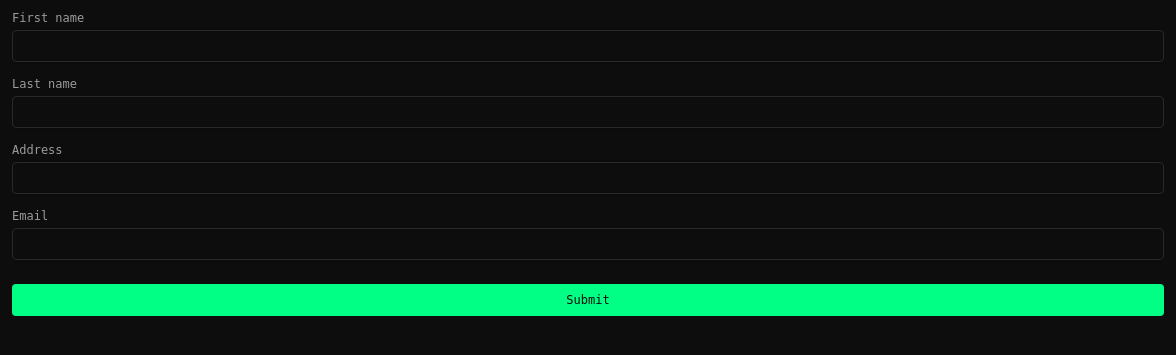
Test: RegistrationForm › RegistrationForm - submit with invalid email - shows email error
Type "Jane" into the field labelled "First name" at (588, 46), box [12,30,1164,62]
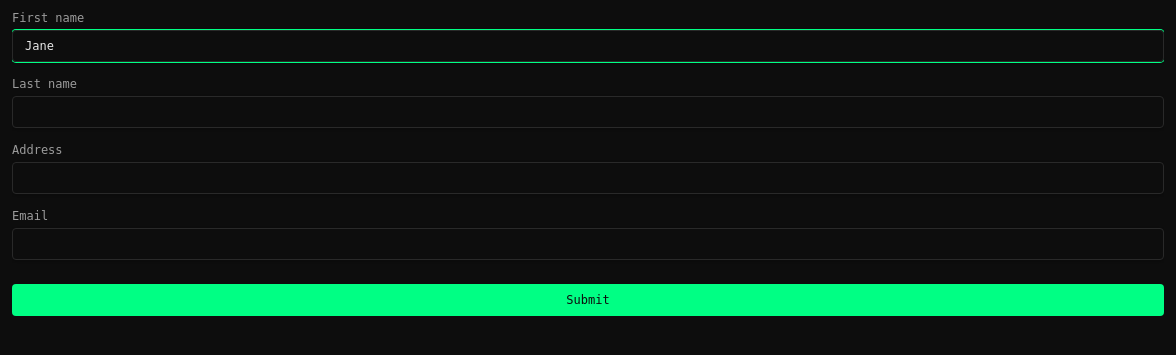
Type "Doe" into the field labelled "Last name" at (588, 112), box [12,96,1164,128]
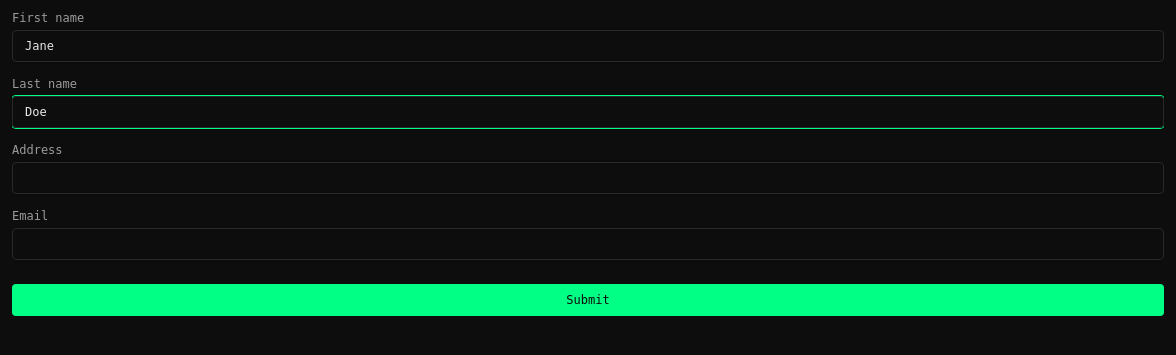
Type "123 Main St" into the field labelled "Address" at (588, 178), box [12,162,1164,194]
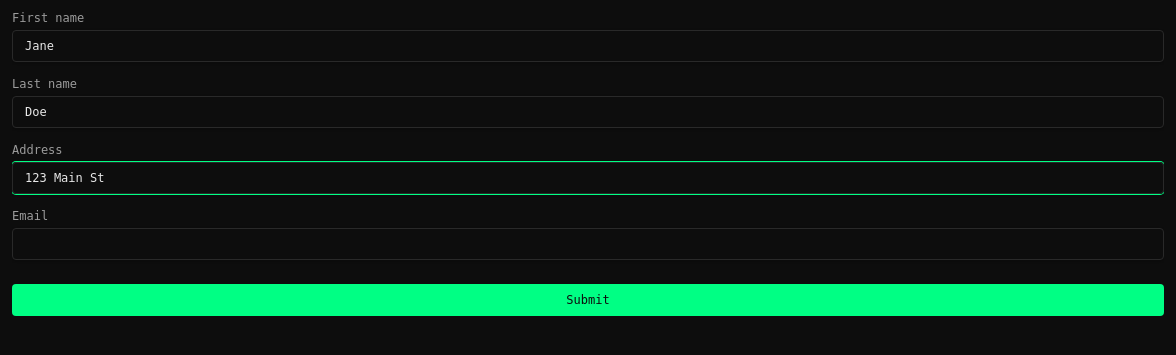
Type "not-an-email" into the field labelled "Email" at (588, 244), box [12,228,1164,260]
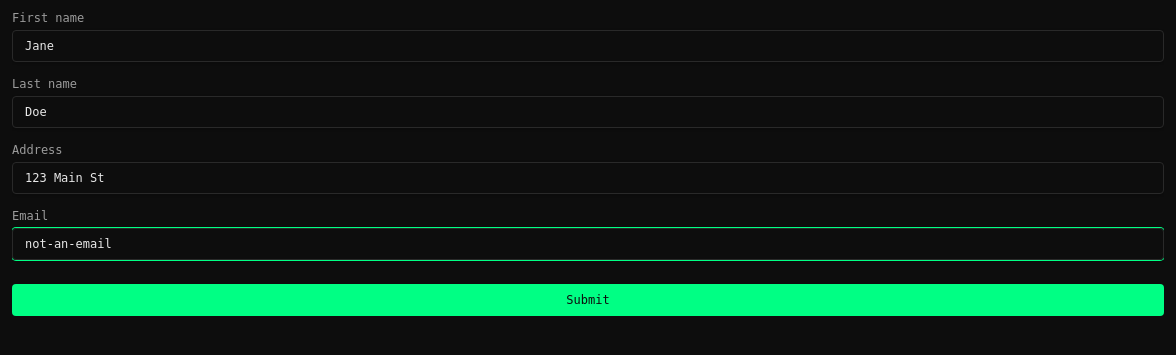
Click the button "Submit" at (588, 300), box [12,284,1164,316]
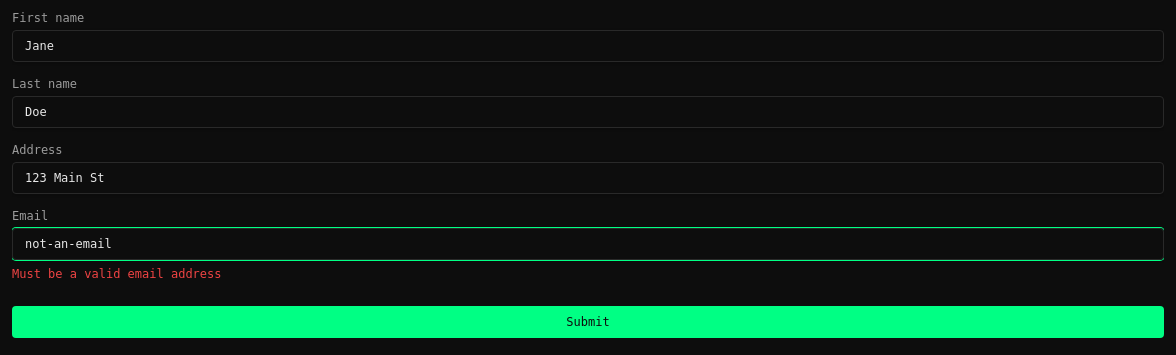
Expected: the text "Must be a valid email address" is shown, [12,267,222,281]
